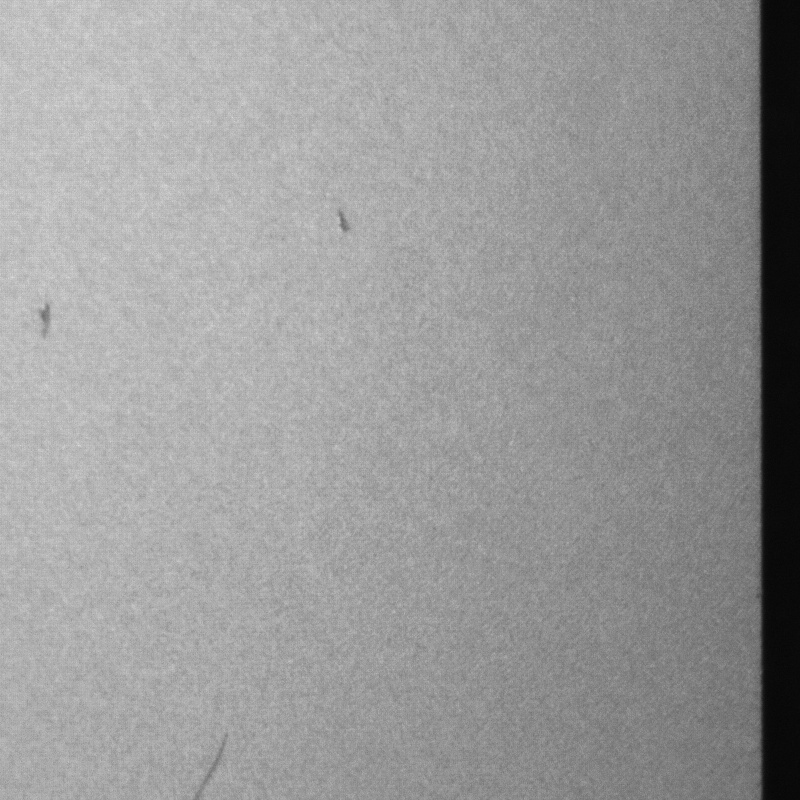defect: (192, 735, 228, 799), (35, 303, 53, 345), (335, 209, 351, 236)
